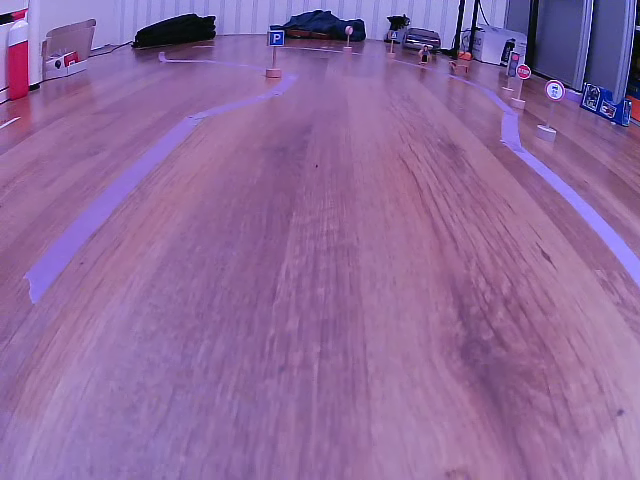fietspad: (544, 79, 566, 102)
parkeerbord: (267, 30, 283, 46)
roodlicht: (509, 50, 520, 76)
stopbord: (517, 64, 530, 79)
